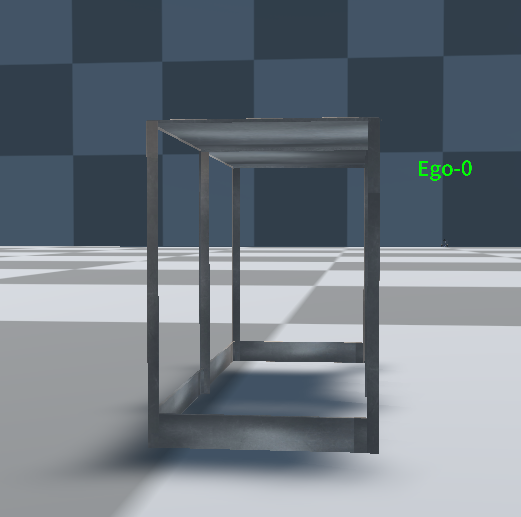Rack: (138, 111, 388, 458)
